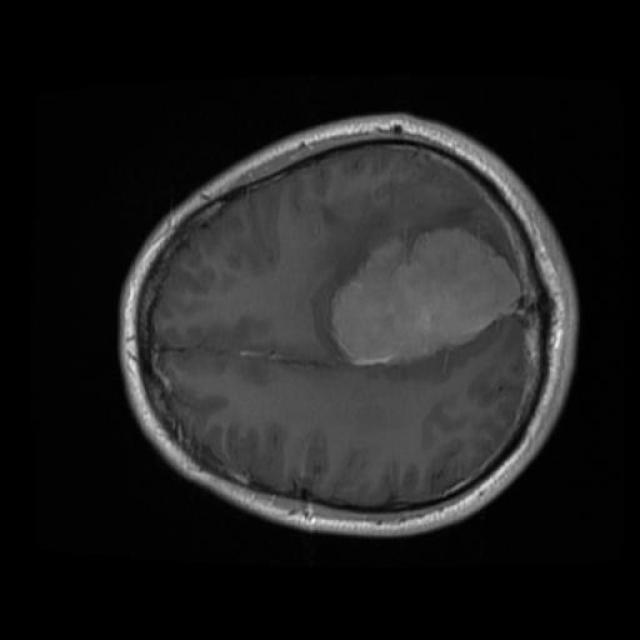Meningioma: (331, 227, 522, 364)
